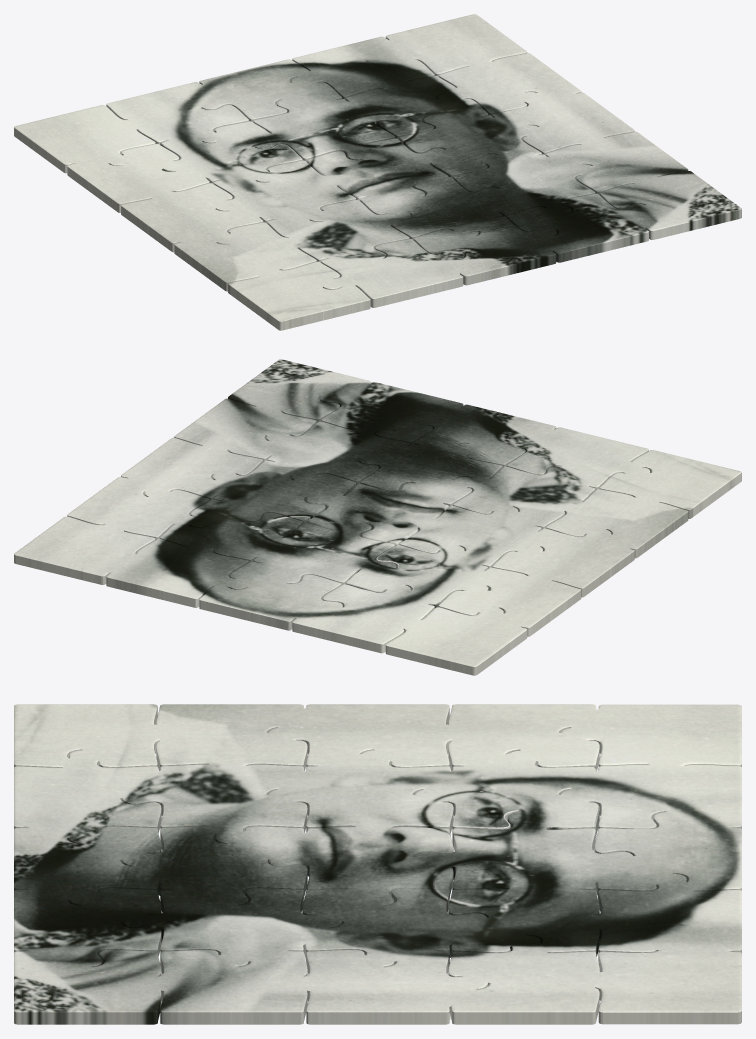
Rendered from Jigsaw_5x5.fbx.
3 views of the same model, one above another, from view 1: azimuth 30°, elevation 25°; view 2: azimuth 150°, elevation 25°; view 3: azimuth 270°, elevation 25° (orthographic). The views are drawn at different scales.
Parts seen in each view (by area): view 1: Plane.019, Plane.032, Plane.038, Plane.030, Plane.023, Plane.041, Plane.031, Plane.021, Plane.029, Plane.024, Plane.034, Plane.040 (+13 smaller); view 2: Plane.023, Plane.024, Plane.036, Plane.025, Plane.037, Plane.038, Plane.021, Plane.041, Plane.034, Plane.043, Plane.020, Plane.040 (+13 smaller); view 3: Plane.025, Plane.027, Plane.026, Plane.038, Plane.028, Plane.029, Plane.041, Plane.034, Plane.023, Plane.043, Plane.024, Plane.033 (+13 smaller).
Part boxes in pixels (bbox=[...]): Plane.019: bbox=[228, 261, 370, 330]; Plane.032: bbox=[321, 239, 464, 307]; Plane.038: bbox=[253, 99, 394, 161]; Plane.030: bbox=[506, 193, 648, 262]; Plane.023: bbox=[14, 105, 155, 173]; Plane.041: bbox=[453, 154, 595, 217]; Plane.031: bbox=[413, 216, 557, 285]; Plane.021: bbox=[121, 183, 263, 252]; Plane.029: bbox=[599, 171, 741, 239]; Plane.024: bbox=[291, 36, 434, 99]; Plane.034: bbox=[213, 160, 355, 223]; Plane.040: bbox=[399, 115, 541, 177]; Plane.023: bbox=[385, 607, 527, 675]; Plane.024: bbox=[106, 539, 248, 607]; Plane.036: bbox=[292, 584, 434, 653]; Plane.025: bbox=[14, 516, 155, 584]; Plane.037: bbox=[199, 561, 342, 630]; Plane.038: bbox=[253, 522, 396, 584]; Plane.021: bbox=[492, 528, 634, 597]; Plane.041: bbox=[266, 420, 409, 484]; Plane.034: bbox=[399, 505, 542, 568]; Plane.043: bbox=[305, 483, 448, 546]; Plane.020: bbox=[546, 489, 688, 558]; Plane.040: bbox=[212, 460, 356, 523]; Plane.025: bbox=[564, 937, 741, 1024]; Plane.027: bbox=[271, 950, 488, 1024]; Plane.026: bbox=[448, 935, 599, 1024]; Plane.038: bbox=[414, 812, 632, 902]; Plane.028: bbox=[125, 950, 307, 1024]; Plane.029: bbox=[14, 950, 161, 1024]; Plane.041: bbox=[121, 888, 341, 967]; Plane.034: bbox=[268, 750, 453, 841]; Plane.023: bbox=[561, 704, 741, 778]; Plane.043: bbox=[267, 827, 453, 905]; Plane.024: bbox=[563, 873, 741, 960]; Plane.033: bbox=[121, 764, 307, 843].
Size of the model in its own units: 498 by 10 by 498.
